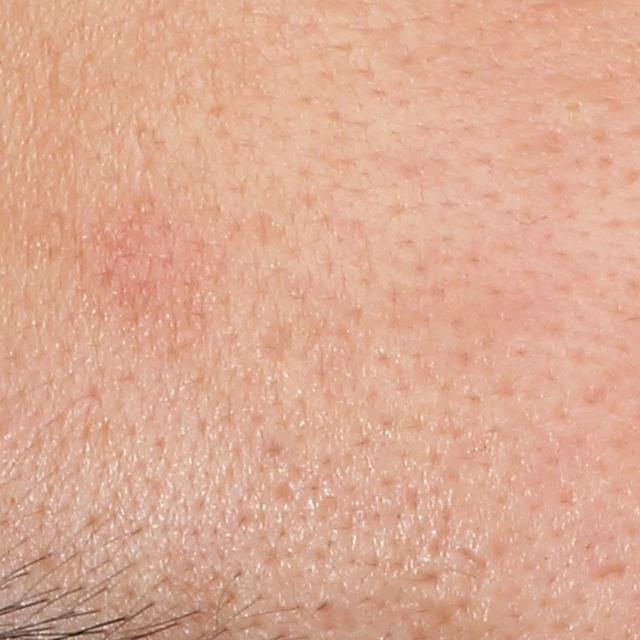atrophic_scar: (257, 313, 297, 363), (590, 562, 631, 582)
comedo: (557, 87, 598, 122)
